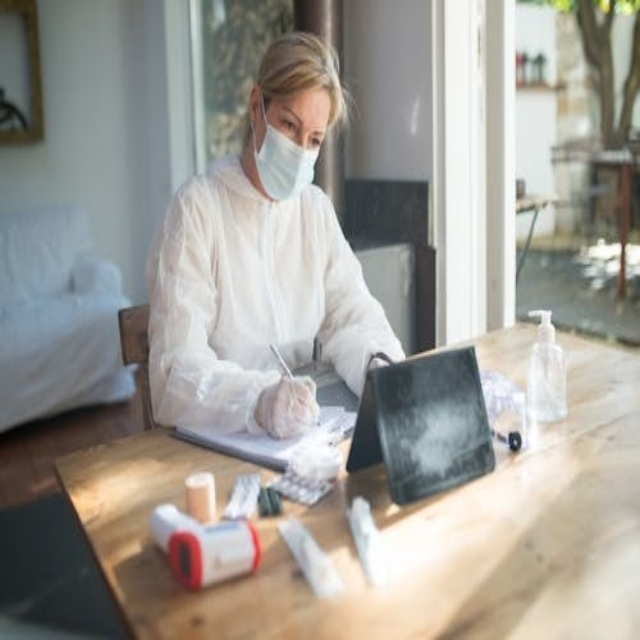Guantes: (254, 374, 319, 440)
Mascara: (252, 92, 319, 201)
Sin_gafas: (271, 102, 328, 155)
